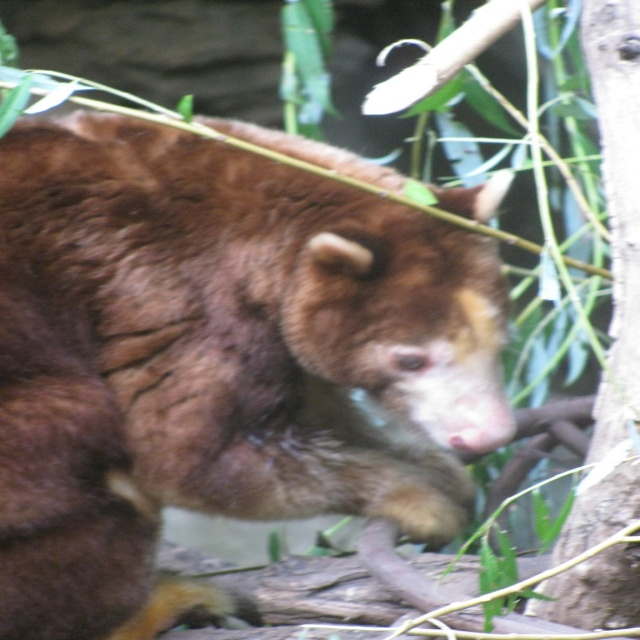Bear: (0, 105, 522, 640)
